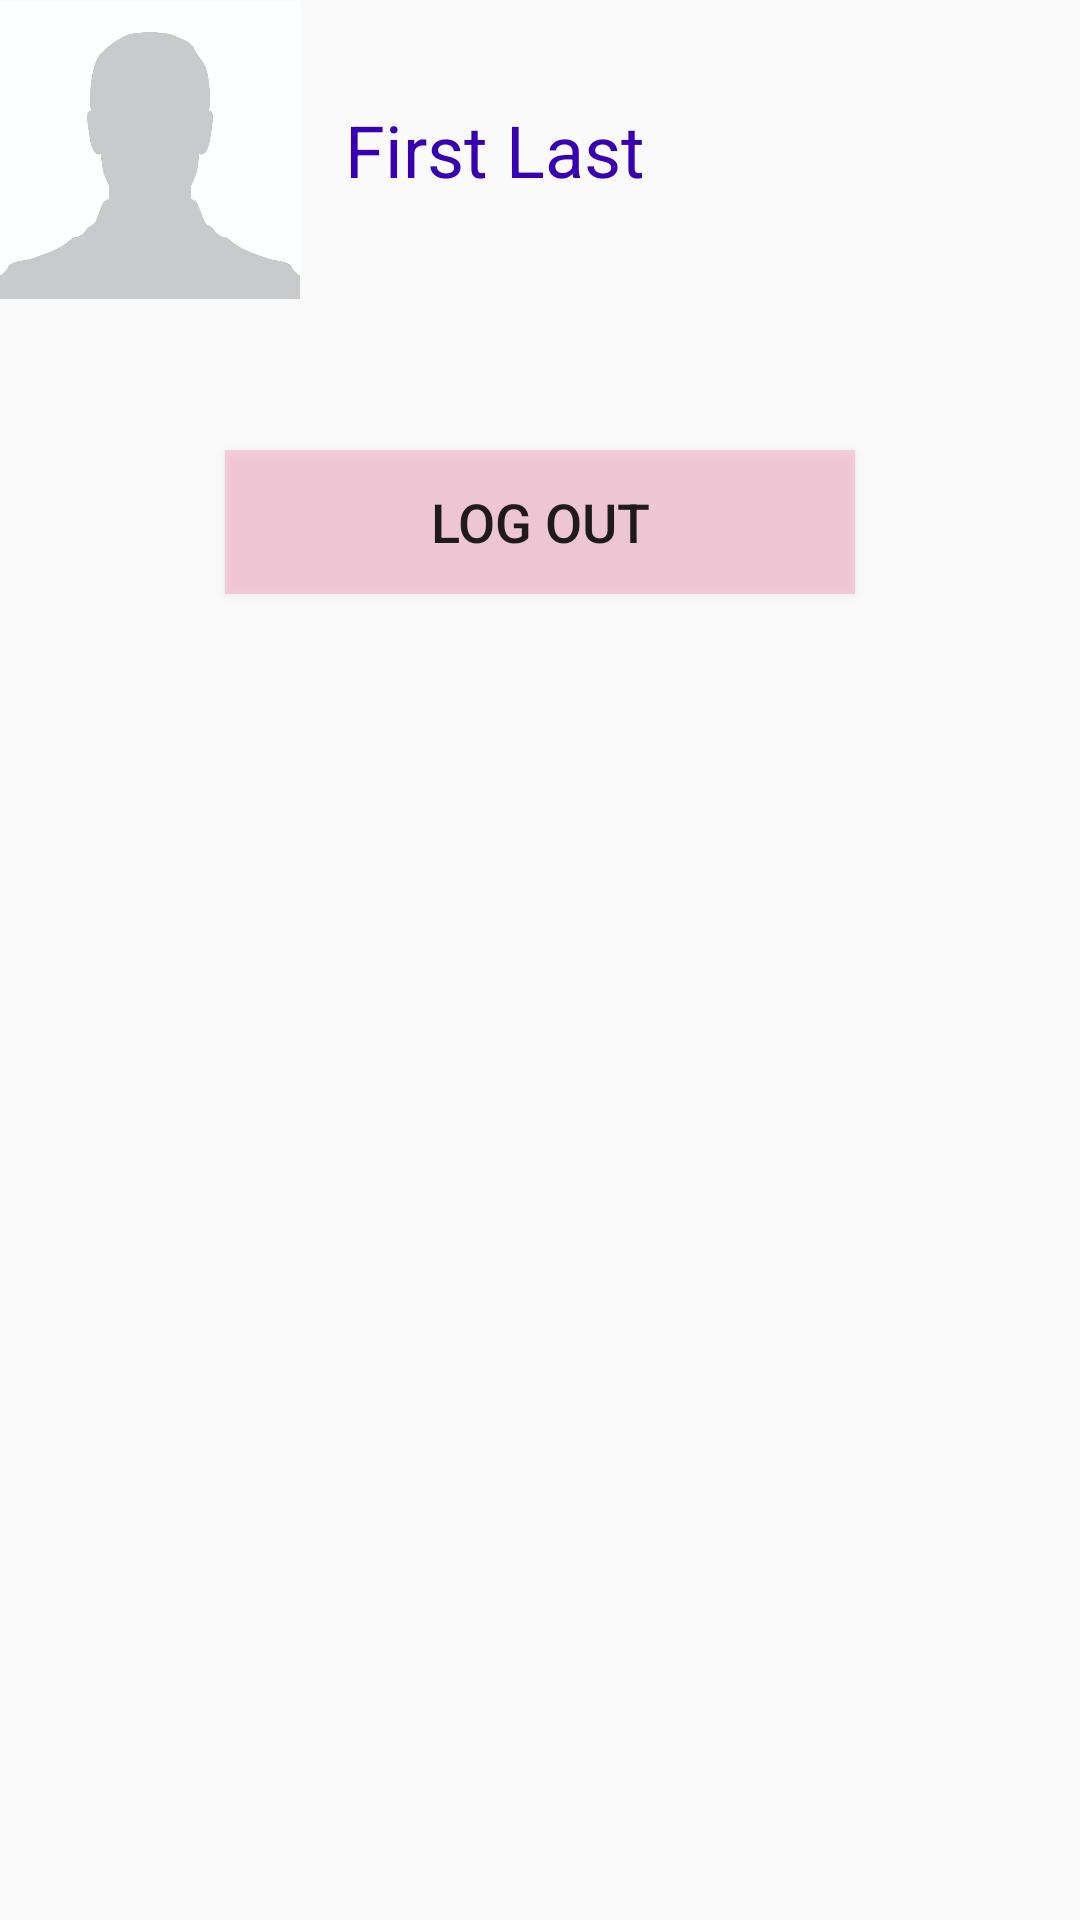

Where icons sit on this 1080x1920 app screen, as (x1, y1, x2, y2):
profileplaceholder: (0, 32, 300, 299)
